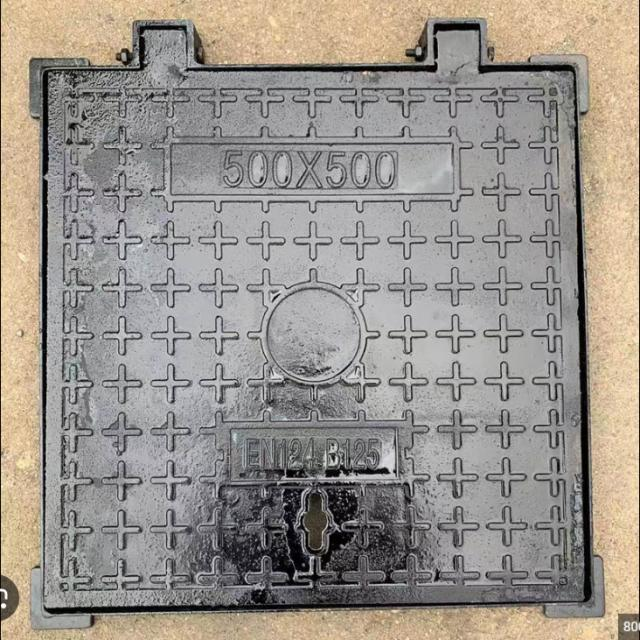manhole: (34, 20, 591, 625)
